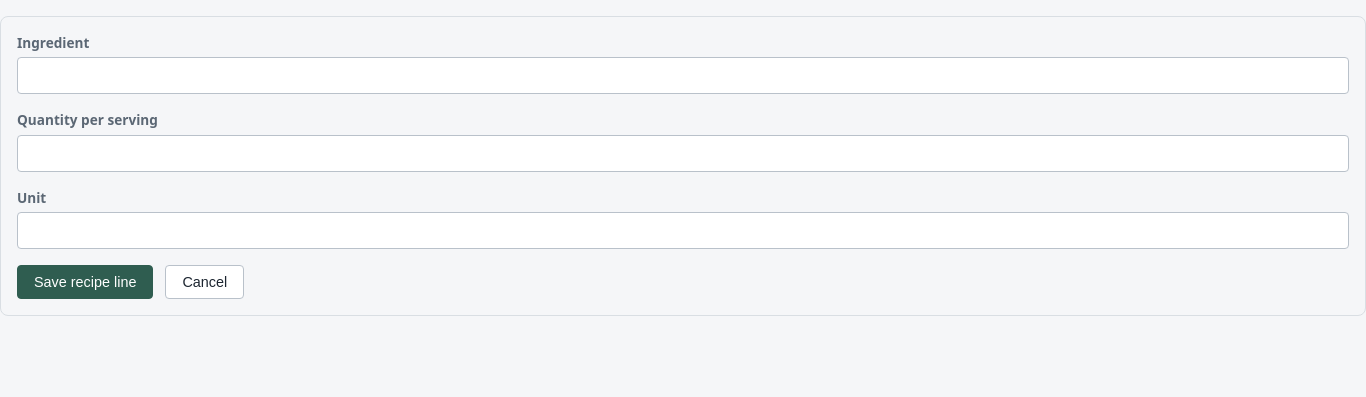
Test: RecipeLineForm › blocks submit with an inline error when quantity is not positive
Type "Mozzarella" into the field labelled "Ingredient". click: (683, 76)
box: 17,57 -> 1349,94
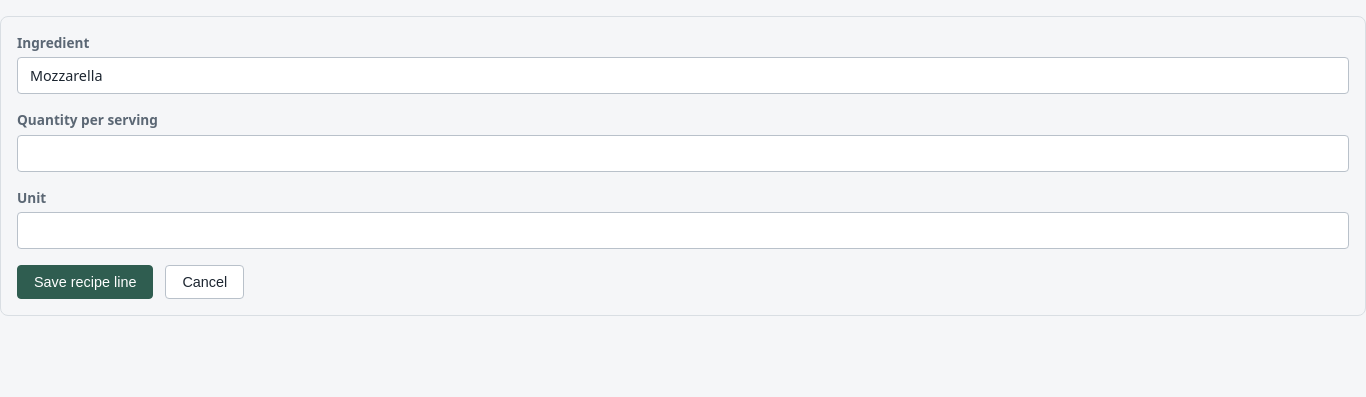
Type "0" into the number field labelled "Quantity per serving". click: (683, 153)
box: 17,135 -> 1349,172
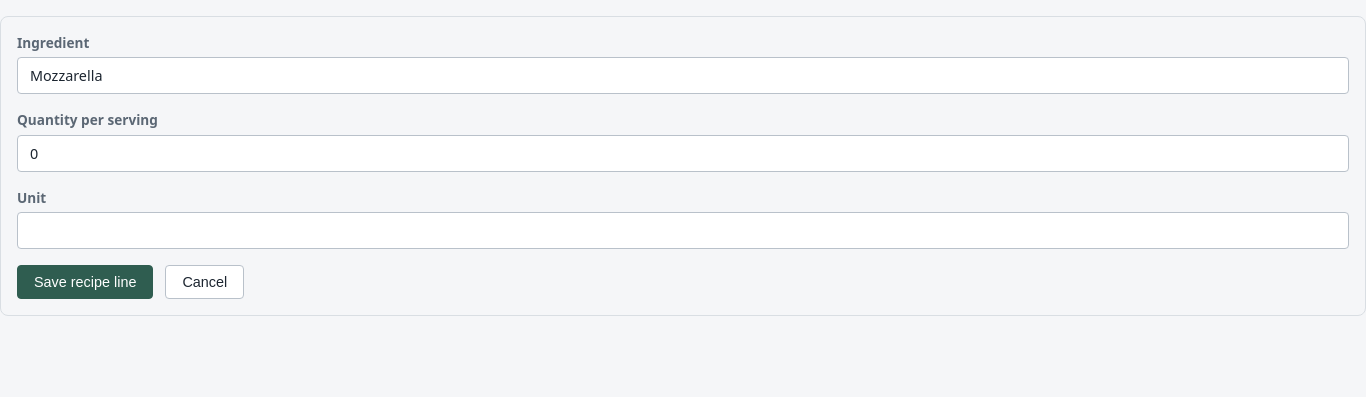
Type "kg" into the field labelled "Unit". click: (683, 231)
box: 17,212 -> 1349,249
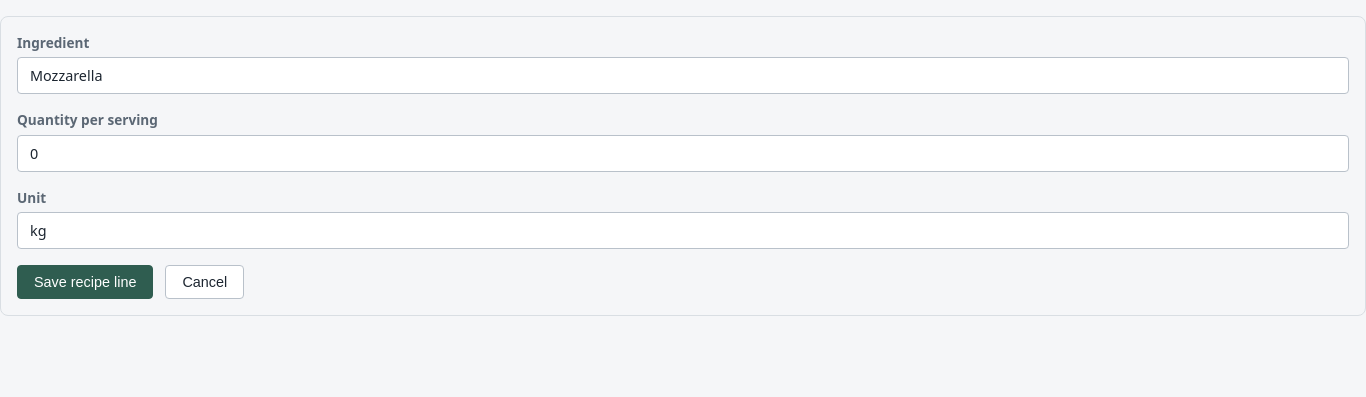
Click the button "Save recipe line". click: (85, 282)
box: 17,265 -> 153,299
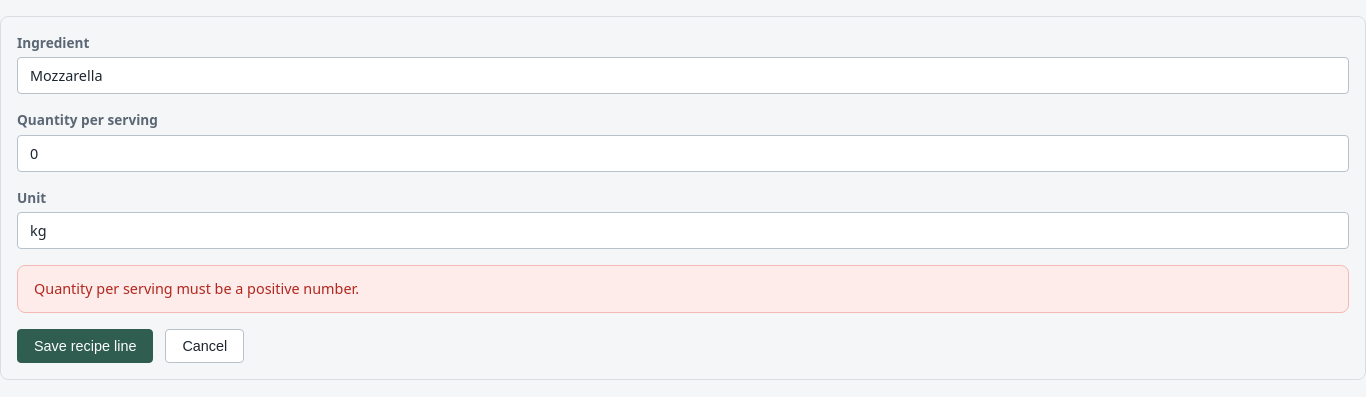
Expected: the message shows "positive number", 34,279 -> 359,298
